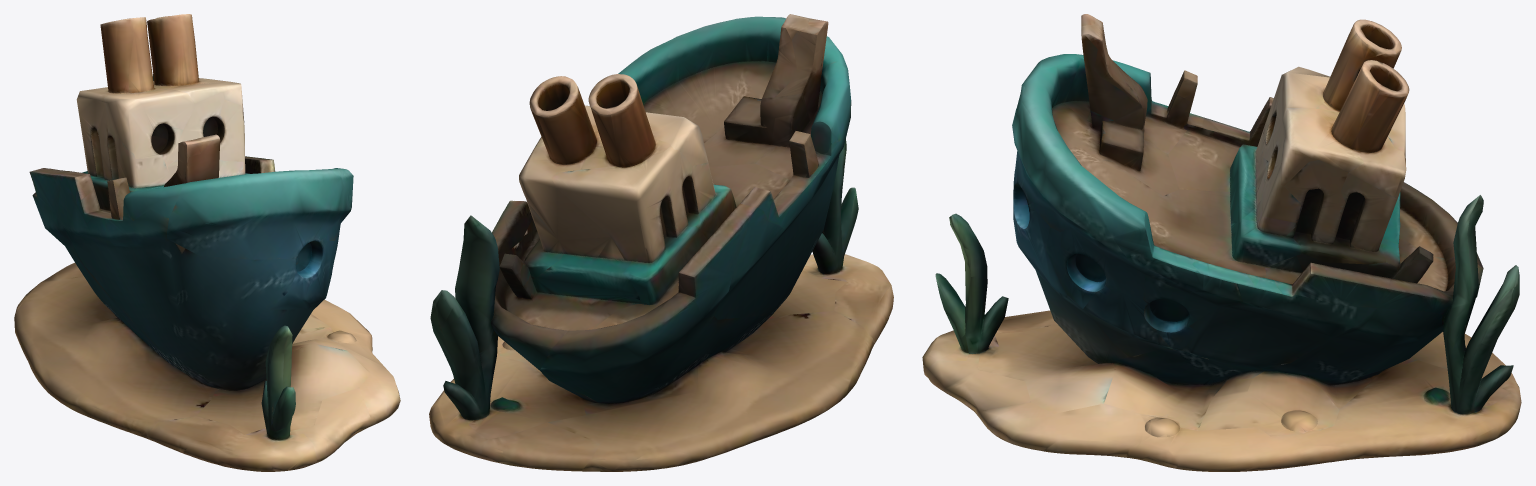
Rendered from shipwreck_pbr.glb.
3 renders of one model, left to right at view 1: azimuth 30°, elevation 25°; view 2: azimuth 150°, elevation 25°; view 3: azimuth 270°, elevation 25°, orthographic. The views are drawn at different scales.
Parts seen in each view (by area): view 1: model; view 2: model; view 3: model.
Boxes of the visible parts, x1,y1,x2,y2 form: model: (14,14,400,471); model: (429,14,893,471); model: (922,14,1521,471).
Bounding box in the file's own units: 1.19 × 1.17 × 1.79.
1 material, 1 textured.
